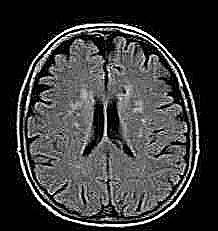Normal_Brain: (3, 6, 218, 231)
